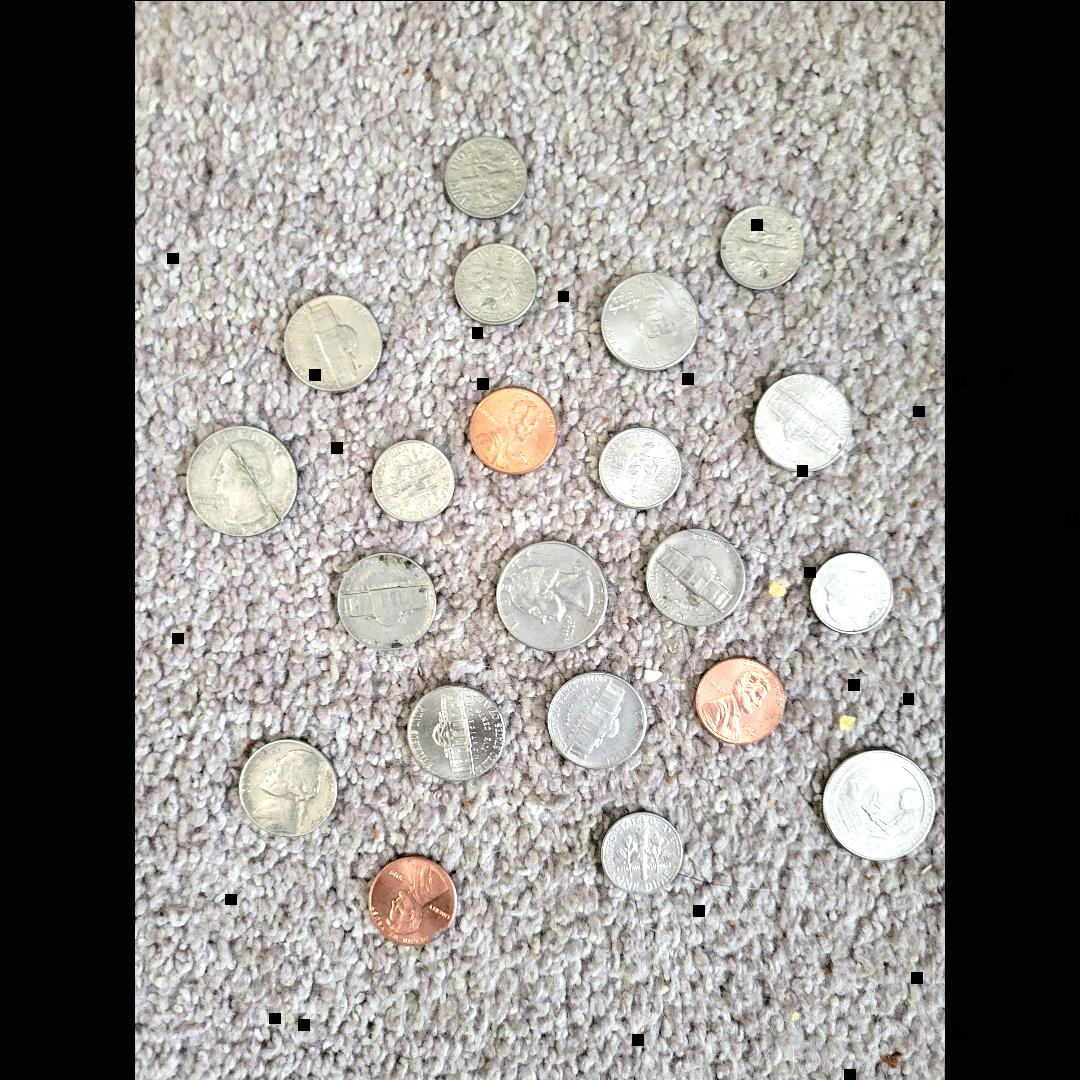Dime: (597, 808, 689, 900), (442, 132, 534, 224), (449, 241, 541, 333), (596, 421, 688, 513), (370, 438, 462, 530), (717, 203, 809, 295), (806, 548, 898, 640)
Nickel: (543, 669, 654, 775), (748, 373, 859, 479), (641, 529, 752, 635), (594, 269, 705, 375), (279, 290, 390, 396), (334, 550, 445, 656), (234, 738, 345, 844), (403, 681, 514, 787)
Penny: (694, 656, 788, 750), (370, 856, 464, 950), (467, 385, 561, 479)
Quarter: (822, 742, 941, 869), (186, 417, 305, 544), (492, 535, 611, 662)
